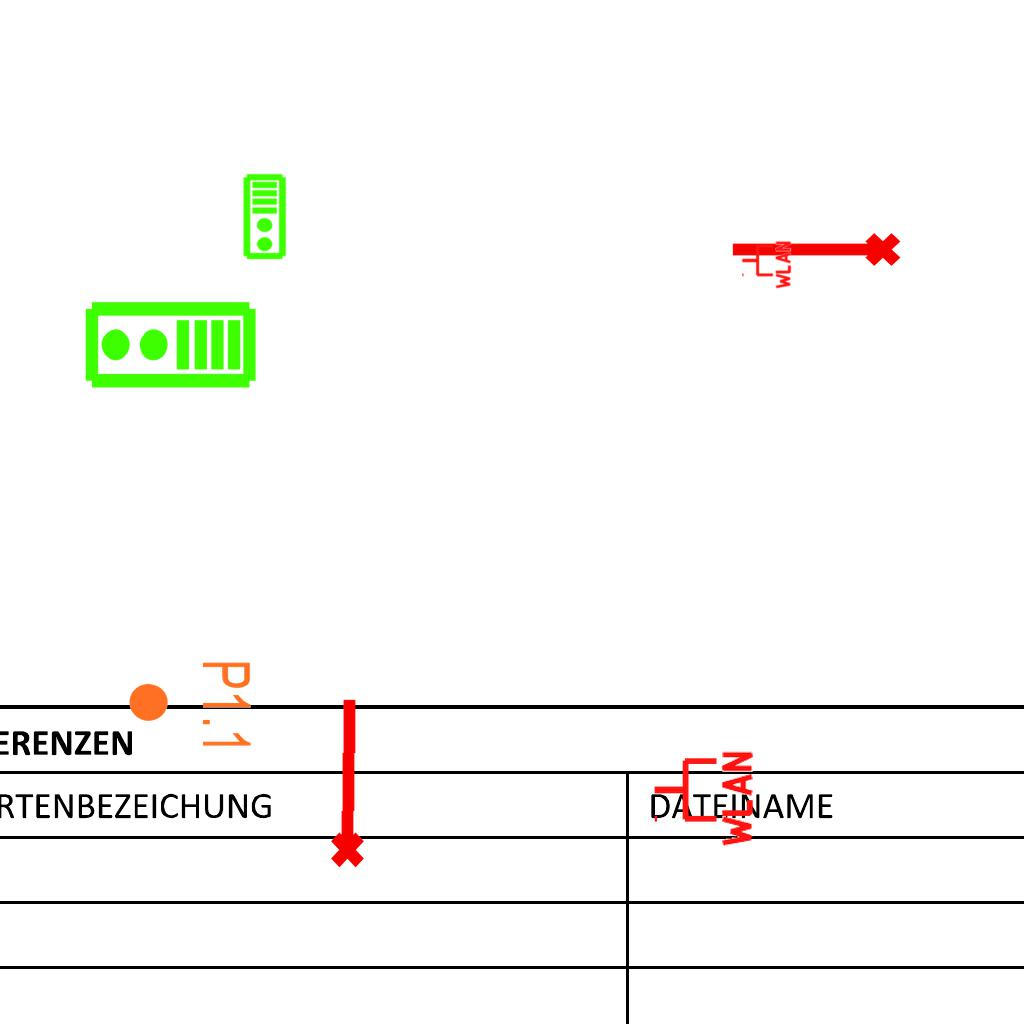ASR_Ansaugoeffnung: (321, 693, 371, 871), (727, 229, 903, 275)
Downlight_LED_Einbauleuchten_Flur: (126, 659, 254, 752)
Gegensprechanlage_mit_Video: (82, 299, 258, 394), (242, 173, 289, 261)
WLAN: (650, 747, 755, 851), (740, 239, 792, 291)
